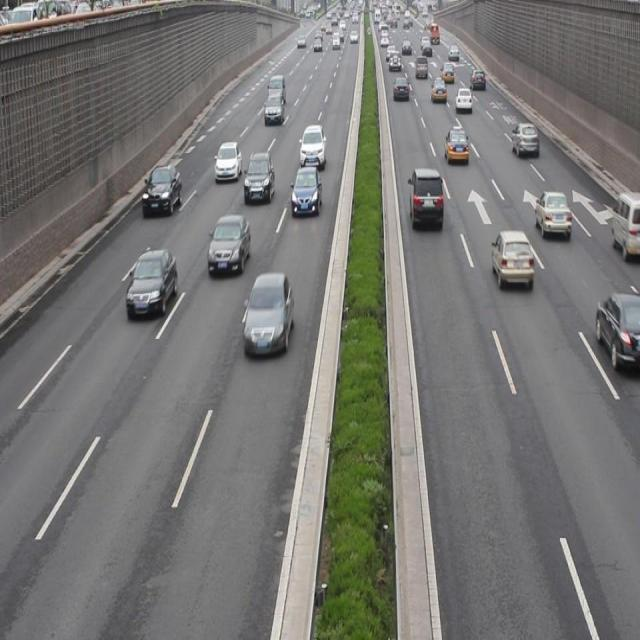car: (243, 272, 290, 356), (594, 290, 640, 368), (126, 249, 177, 316), (491, 229, 532, 291), (207, 214, 248, 271), (408, 168, 443, 232), (141, 166, 181, 212), (533, 189, 569, 238), (244, 151, 273, 203), (291, 167, 320, 217), (298, 124, 326, 170), (511, 120, 538, 160), (214, 142, 241, 180), (442, 126, 468, 162)
truck: (610, 190, 640, 254)
